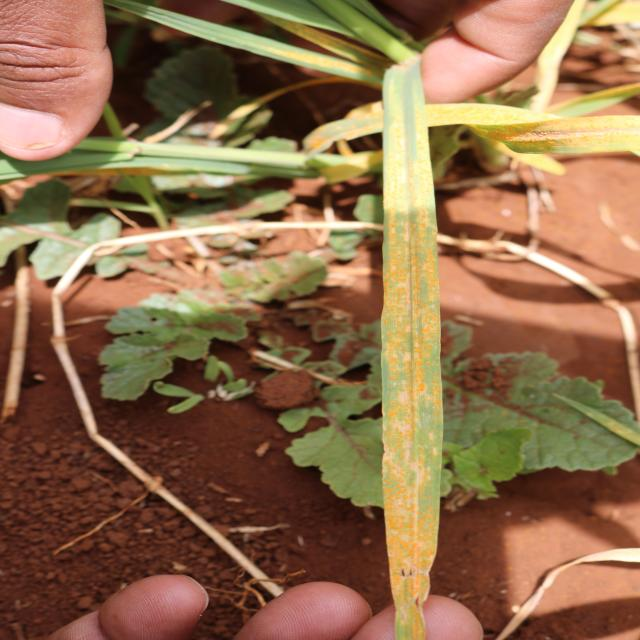Stripe Rust: (387, 208, 437, 624)
